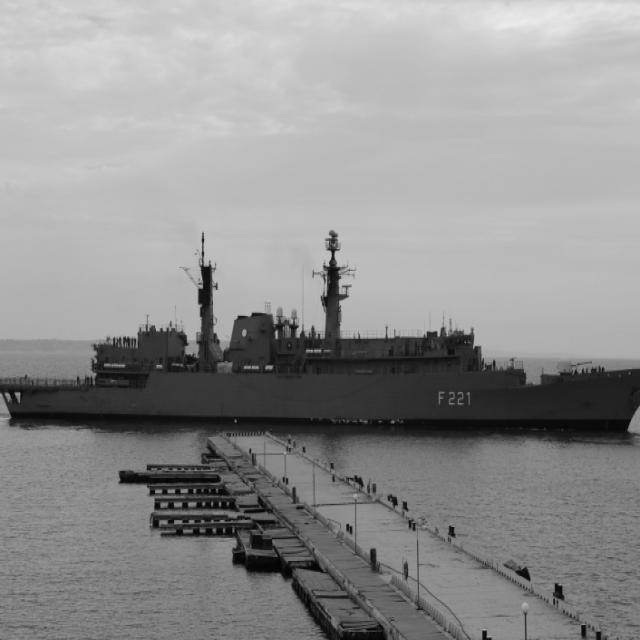Fragata: (1, 226, 640, 433)
